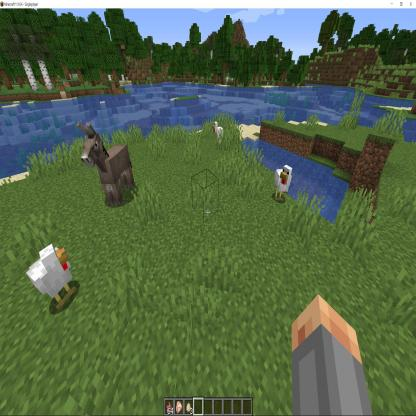minecraft-pigs: (196, 141, 238, 237)
